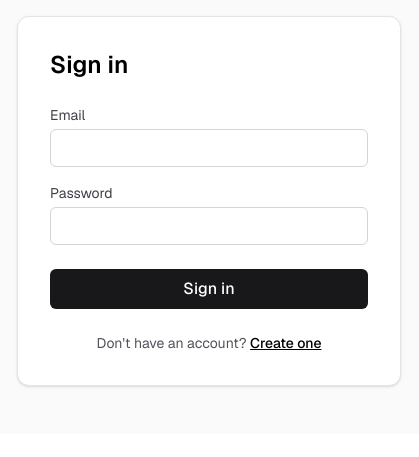
Scenario: AuthForm in login mode › should show the error message and stay on the page when login fails
The image size is (419, 457).
Type "john@gmail.com" into the field labelled "Email" at point(209, 148), box [50, 129, 368, 167]
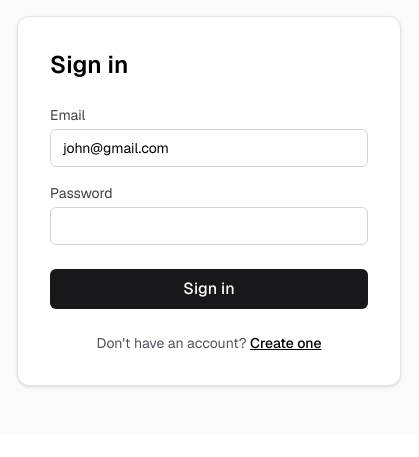
Type "wrongpassword" into the password field labelled "Password" at point(209, 226), box [50, 207, 368, 245]
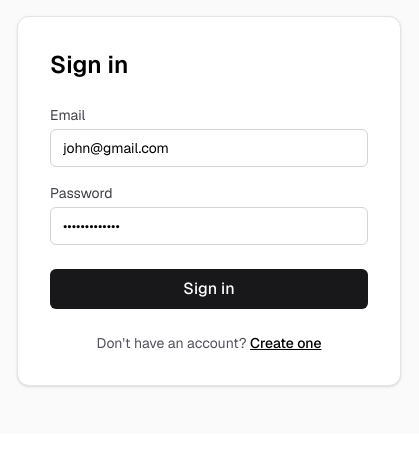
Click the button "Sign in" at point(209, 289), box [50, 269, 368, 309]
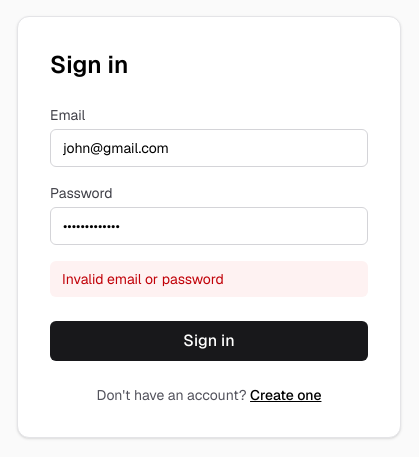
Expected: the button "Sign in" is enabled, [50, 321, 368, 361]
Expected: the message reads "Invalid email or password", [62, 270, 224, 288]
